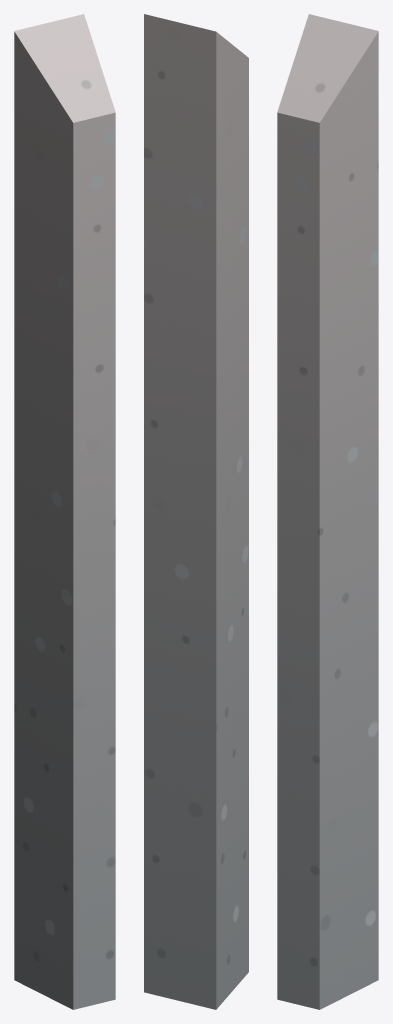
Rendered from prop_barrier_pole.FBX.
3 renders of one model, left to right at view 1: azimuth 30°, elevation 25°; view 2: azimuth 150°, elevation 25°; view 3: azimuth 330°, elevation 25°, orthographic. The views are drawn at different scales.
Visible parts, largest first — view 1: prop_barrier_pole_001; view 2: prop_barrier_pole_001; view 3: prop_barrier_pole_001.
Boxes of the visible parts, x1,y1,x2,y2 form: prop_barrier_pole_001: (14,14,115,1009); prop_barrier_pole_001: (144,14,248,1009); prop_barrier_pole_001: (277,14,378,1009).
Bounding box in the file's own units: 4.41 × 57.24 × 4.96.
1 material, 1 textured.
